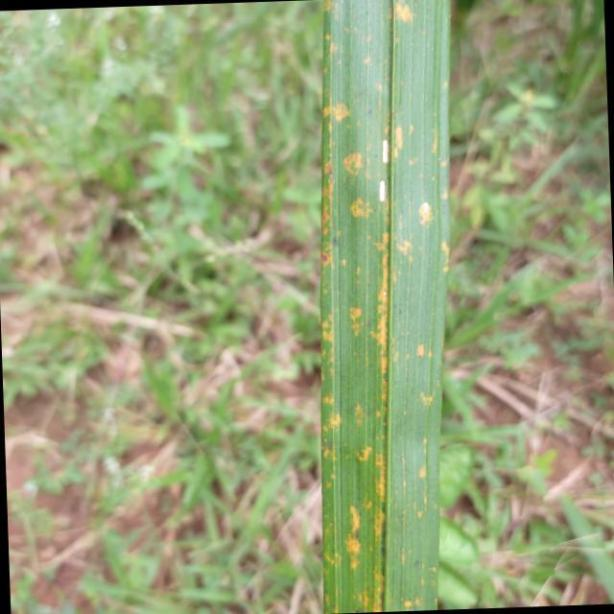Kalium: (320, 0, 441, 614)
